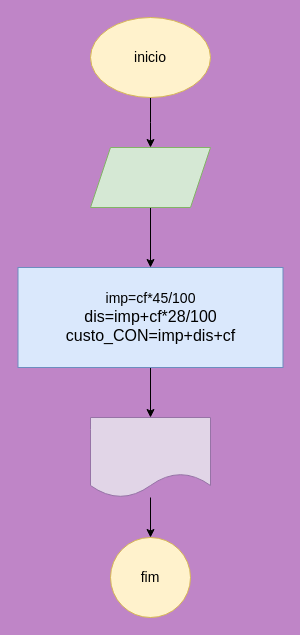
The diagram is 300 pixels wide and 635 high, and some of its shapes have lost their labels. Each missing label, with the centre of its shape:
"custo_CON" belongs at point (150, 177).
"resultado" belongs at point (150, 457).
